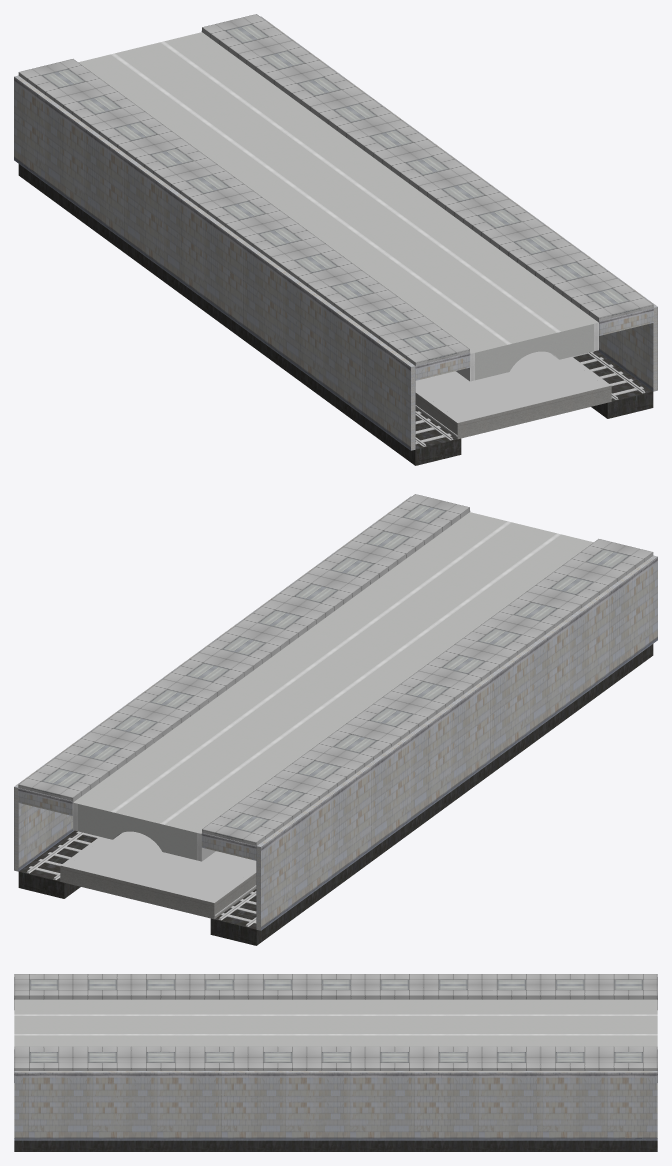
The model's file is Subway06.FBX.
The picture shows the model from 3 angles, top to bottom: view 1: azimuth 30°, elevation 25°; view 2: azimuth 150°, elevation 25°; view 3: azimuth 270°, elevation 25°; orthographic projection. The views are drawn at different scales.
Visible parts, largest first — view 1: Subway06Ceiling, Subway06CeilingUp, Subway06Side01a, Subway06Floor01, Subway06Railfloor, Subway06Side01, Subway06Railway; view 2: Subway06Ceiling, Subway06CeilingUp, Subway06Side01a, Subway06Floor01, Subway06Railfloor, Subway06Side01, Subway06Railway; view 3: Subway06Side01a, Subway06CeilingUp, Subway06Ceiling, Subway06Railfloor.
Part boxes in pixels (x1,y1,x2,y2): Subway06Ceiling: (78,32,598,381); Subway06CeilingUp: (18,14,653,365); Subway06Side01a: (14,16,657,450); Subway06Floor01: (415,351,611,439); Subway06Railfloor: (18,164,653,465); Subway06Side01: (201,31,653,380); Subway06Railway: (415,351,645,446); Subway06Ceiling: (73,512,593,861); Subway06CeilingUp: (18,494,653,845); Subway06Side01a: (14,496,657,930); Subway06Floor01: (60,831,256,919); Subway06Railfloor: (18,644,653,945); Subway06Side01: (18,511,470,860); Subway06Railway: (26,831,256,926); Subway06Side01a: (14,1071,657,1140); Subway06CeilingUp: (14,974,657,1070); Subway06Ceiling: (14,999,657,1046); Subway06Railfloor: (14,1140,657,1151).
Bounding box in the file's own units: 26950 × 10772 × 75107.
